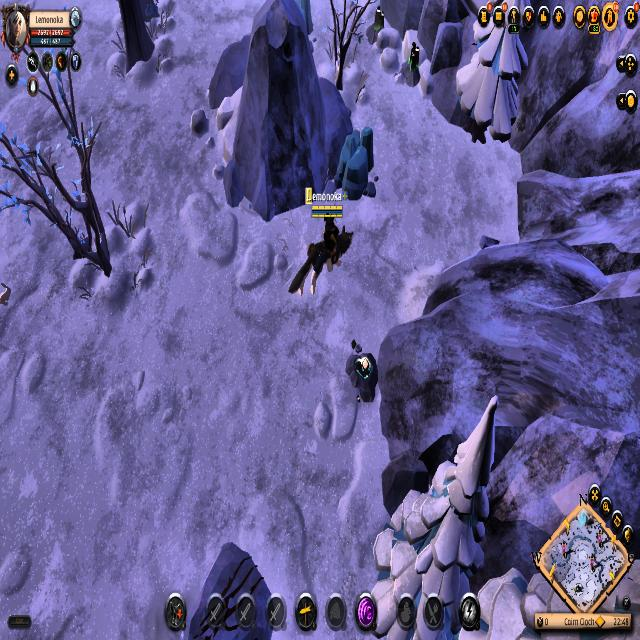ore tier 3: (397, 41, 424, 91)
rock tier 4: (339, 126, 376, 192)
